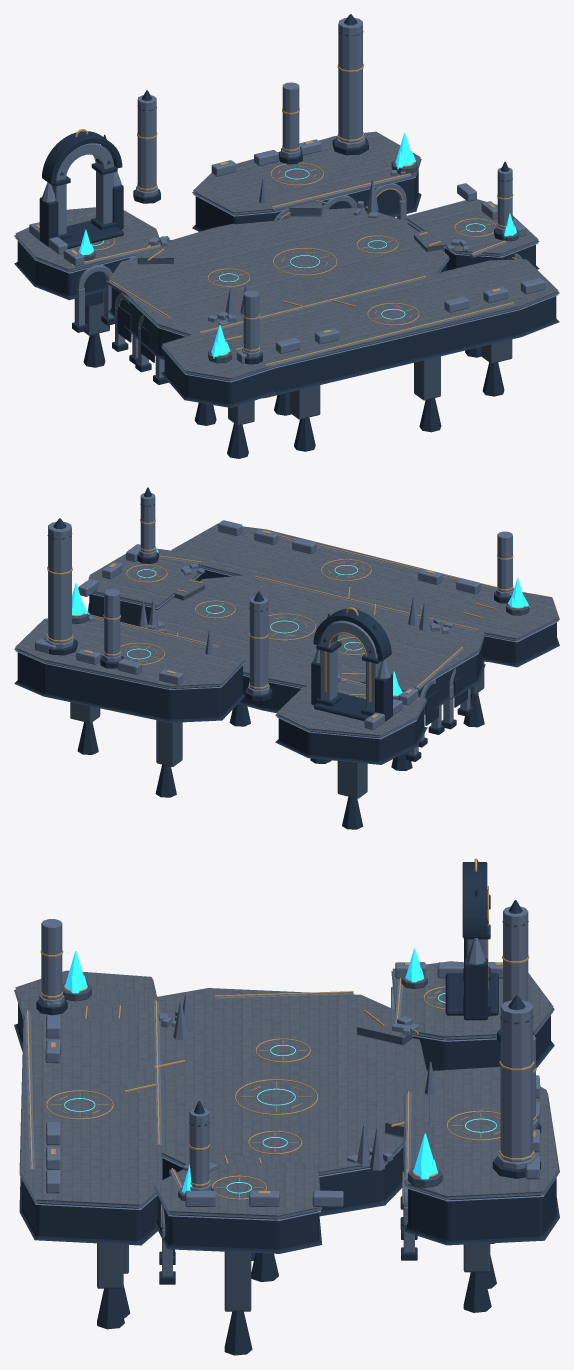
Rendered from floating-sanctuary.glb.
3 renders of one model, top to bottom at view 1: azimuth 30°, elevation 25°; view 2: azimuth 150°, elevation 25°; view 3: azimuth 270°, elevation 25°, orthographic. The views are drawn at different scales.
Parts seen in each view (by area): view 1: Sanctuary_Foundation, Sanctuary_Platform, Sanctuary_Crystal; view 2: Sanctuary_Foundation, Sanctuary_Platform, Sanctuary_Crystal; view 3: Sanctuary_Platform, Sanctuary_Foundation, Sanctuary_Crystal.
Part boxes in pixels (x1=…): Sanctuary_Foundation: x1=14, y1=14, x2=559, y2=458; Sanctuary_Platform: x1=15, y1=131, x2=558, y2=378; Sanctuary_Crystal: x1=79, y1=132, x2=516, y2=358; Sanctuary_Foundation: x1=14, y1=487, x2=559, y2=829; Sanctuary_Platform: x1=15, y1=523, x2=558, y2=735; Sanctuary_Crystal: x1=72, y1=546, x2=529, y2=695; Sanctuary_Platform: x1=15, y1=961, x2=558, y2=1215; Sanctuary_Foundation: x1=14, y1=858, x2=559, y2=1355; Sanctuary_Crystal: x1=65, y1=948, x2=437, y2=1193.
Bounding box in the file's own units: 22.75 × 15.18 × 20.55.
Materials: 4 (4 with a texture image).
